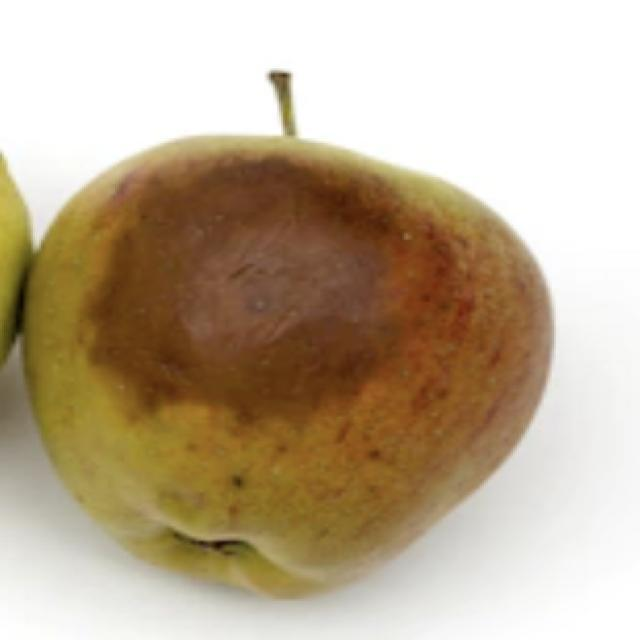Rotten: (20, 127, 553, 593)
